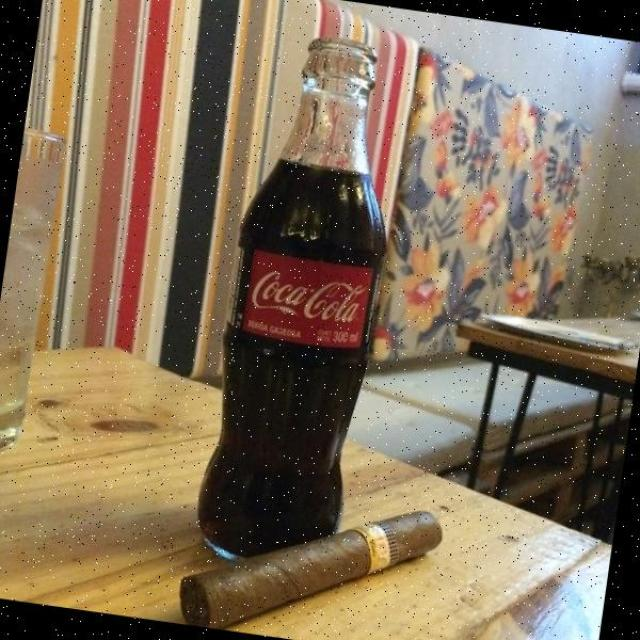coca-cola: (188, 18, 419, 573)
